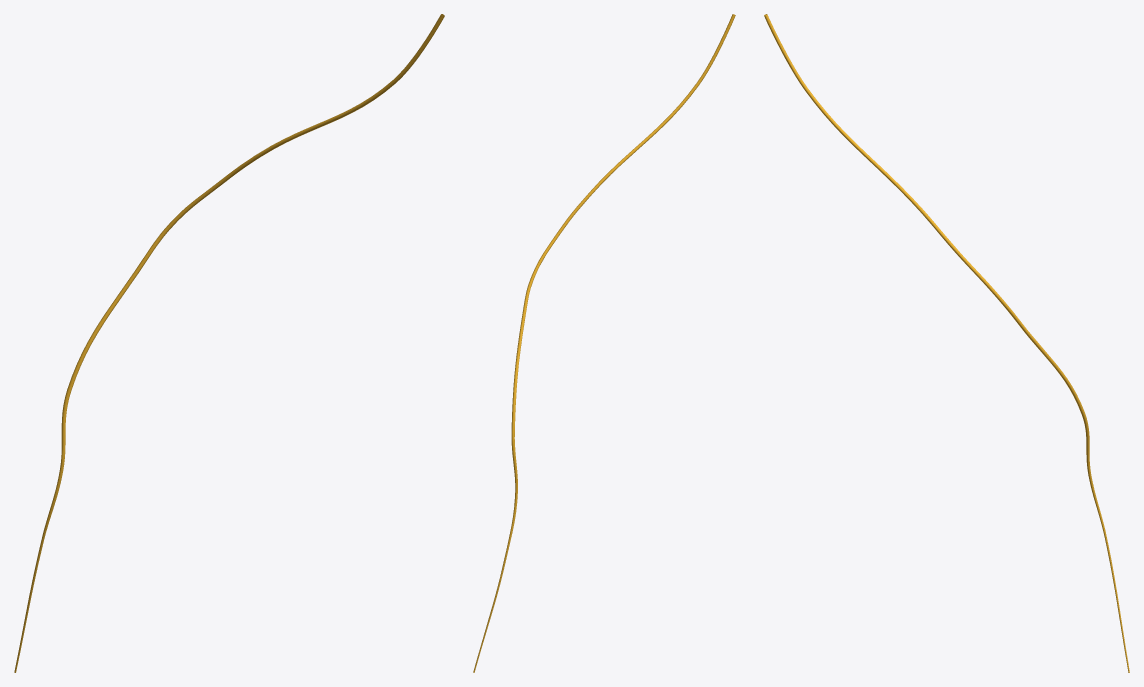
The model's file is nervoso-dorsal-scapular-nerve-l.glb.
3 renders of one model, left to right at view 1: azimuth 90°, elevation 25°; view 2: azimuth 150°, elevation 25°; view 3: azimuth 270°, elevation 25°, orthographic. The views are drawn at different scales.
Visible parts, largest first — view 1: Dorsal scapular nerve.l; view 2: Dorsal scapular nerve.l; view 3: Dorsal scapular nerve.l.
Part boxes in pixels (<box>): Dorsal scapular nerve.l: <box>14,14,444,672</box>; Dorsal scapular nerve.l: <box>473,14,735,672</box>; Dorsal scapular nerve.l: <box>764,14,1129,672</box>.
Bounding box in the file's own units: 0.0332 × 0.1789 × 0.0974.
